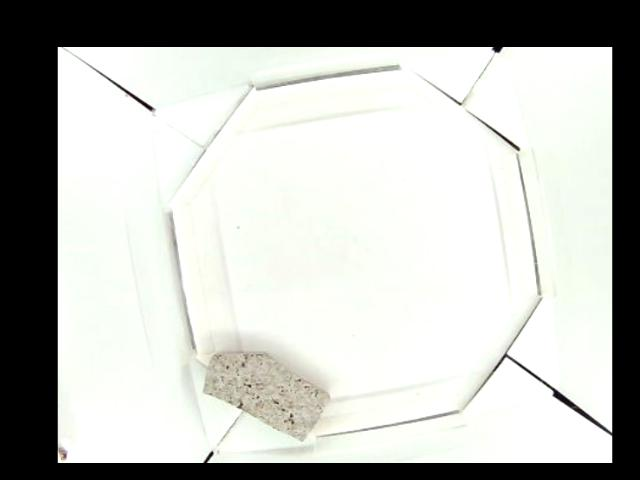China: (200, 350, 329, 441)
